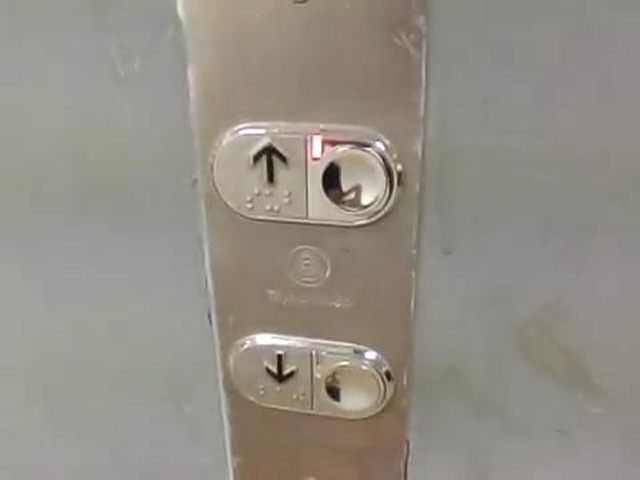down: (224, 328, 399, 425)
up: (205, 115, 405, 233)
